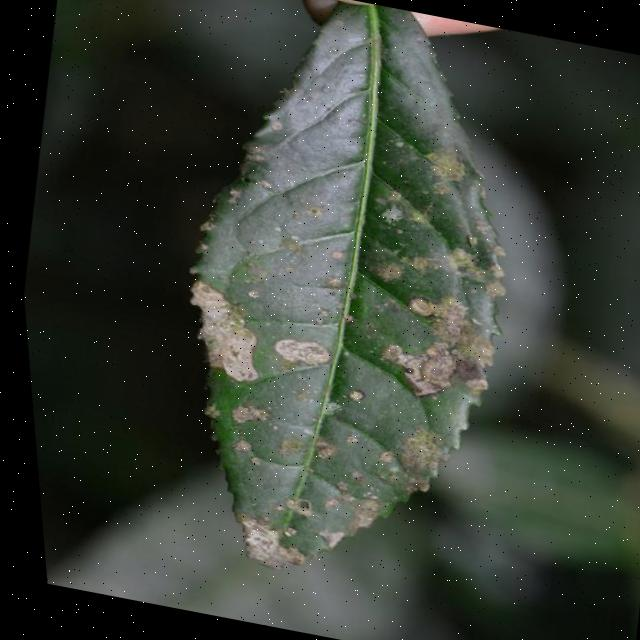Tea algae leaf spot: (139, 98, 537, 619)
